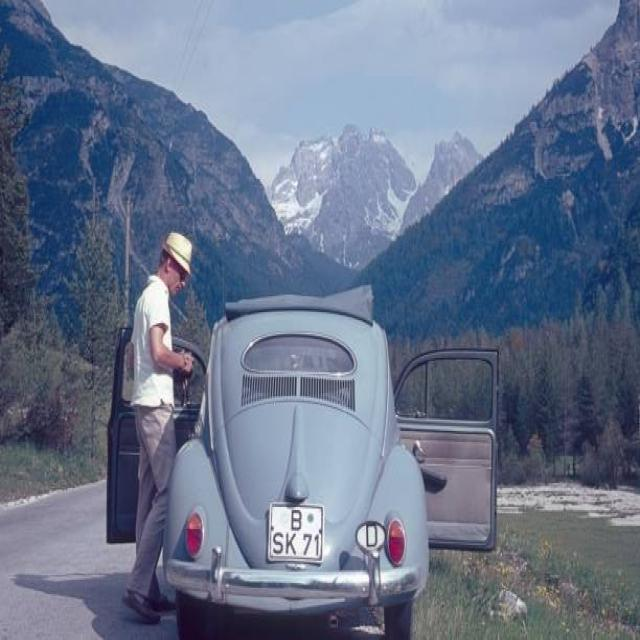cars: (154, 287, 438, 630)
